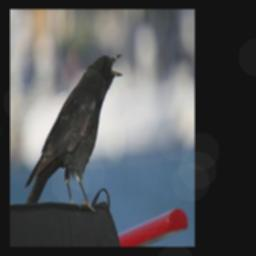Crow: (23, 50, 124, 216)
